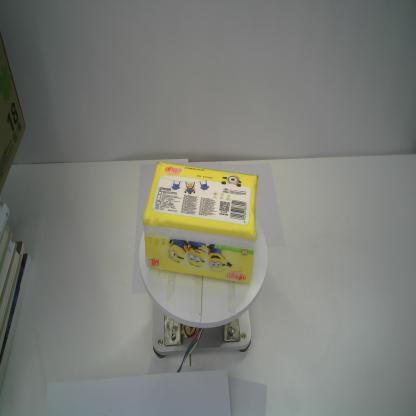Tissue: (142, 160, 259, 283)
